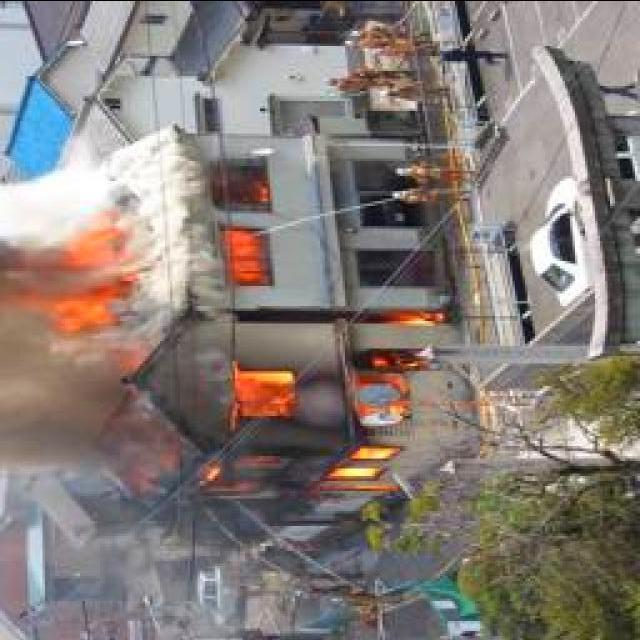Fire: (130, 305, 450, 519), (30, 221, 126, 330), (219, 184, 272, 286)
